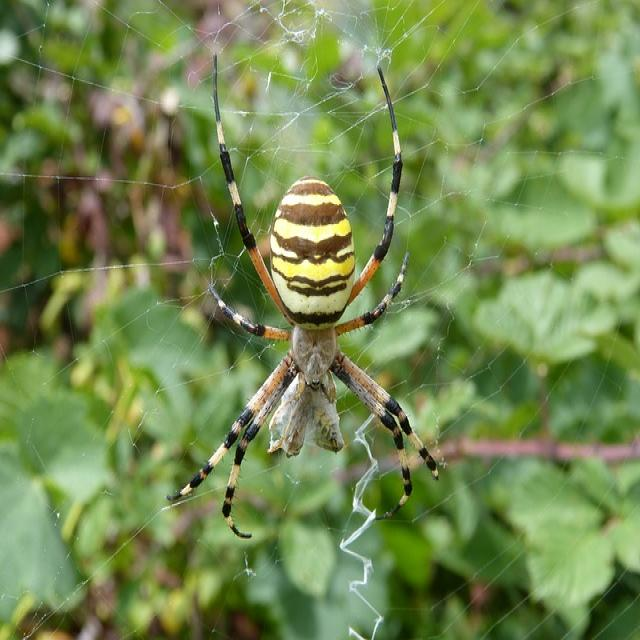spyder: (165, 55, 437, 540)
